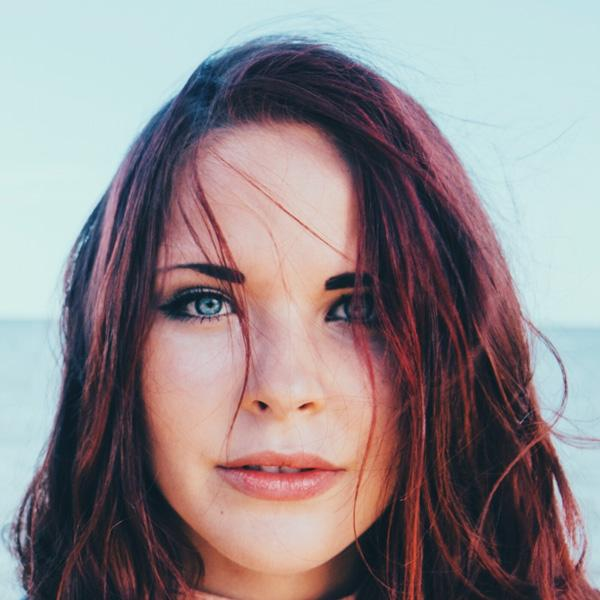Eyes: (157, 278, 248, 332), (321, 285, 403, 332)
